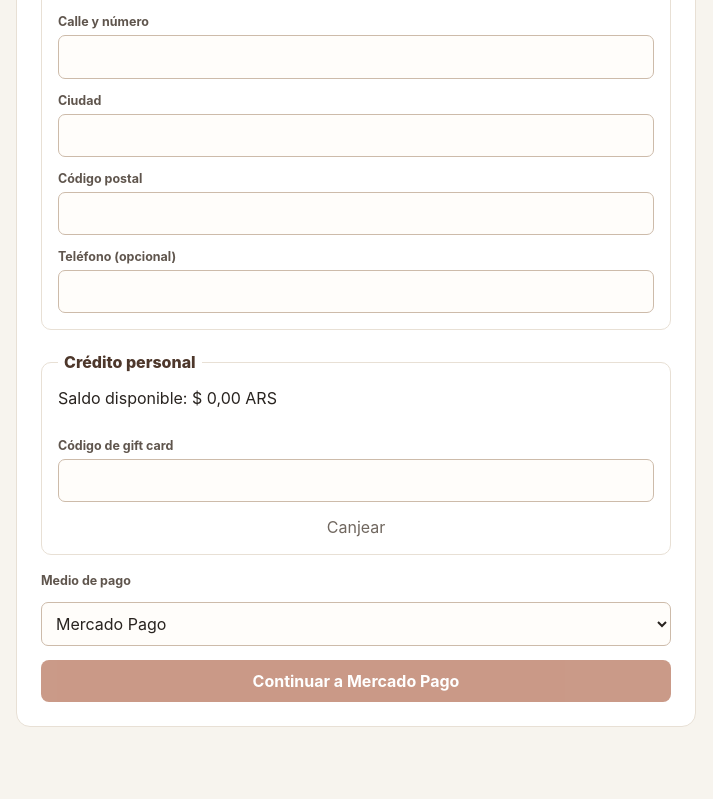
it: purchase checkout and orders › retains an in-flight redeem attempt after switching away and back before a rejection
The width and height of the screenshot is (713, 799).
(page scrolled)
Expected: the text "Saldo disponible: $ 0,00 ARS" is shown, [58,388,277,408]
In the password field labelled "Código de gift card": {"x": 356, "y": 481} [58,459,654,502], type "CODE"
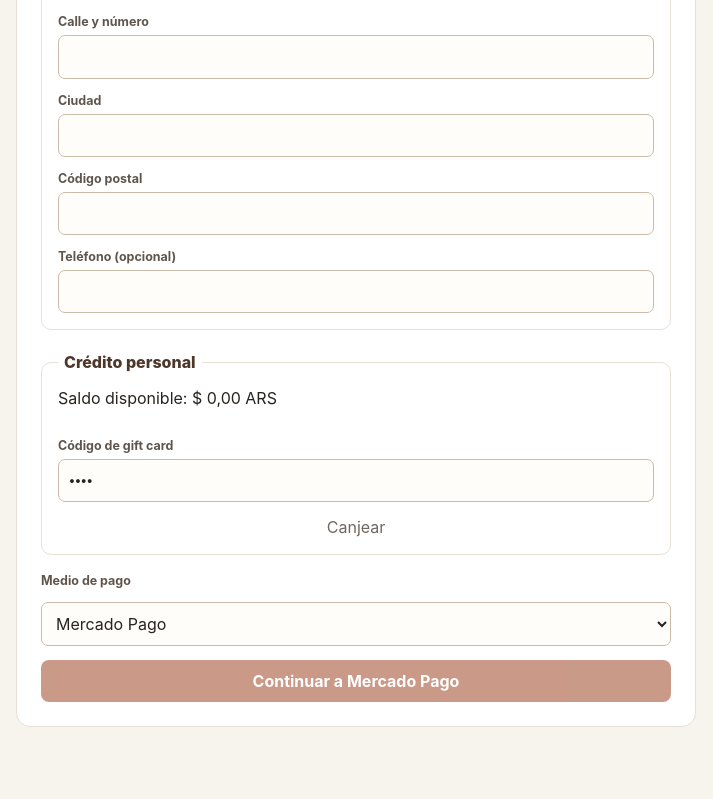
Click the button "Canjear": {"x": 356, "y": 527} [58,516,654,538]
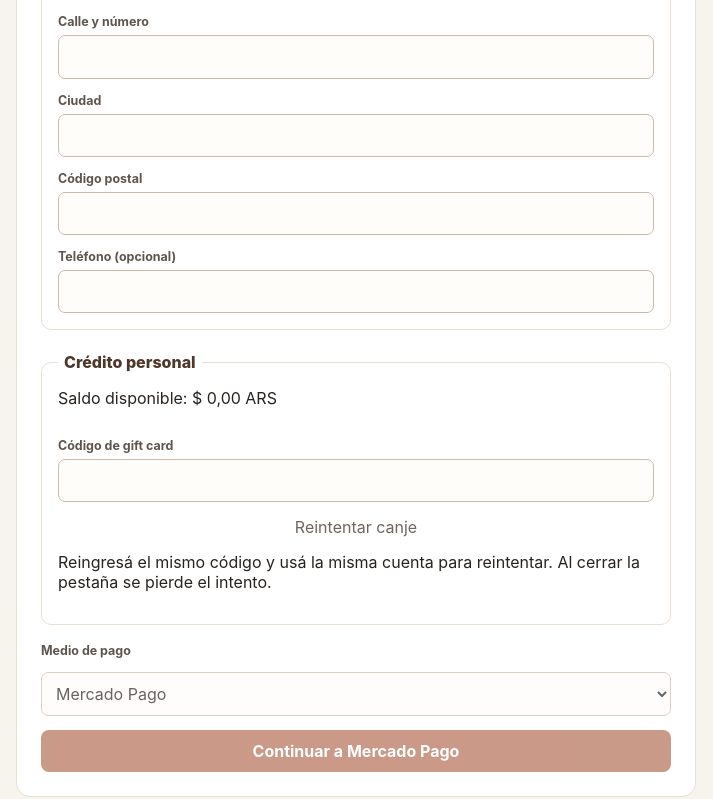
Result: the dropdown labelled "Medio de pago" is disabled at [41,672,671,716]
